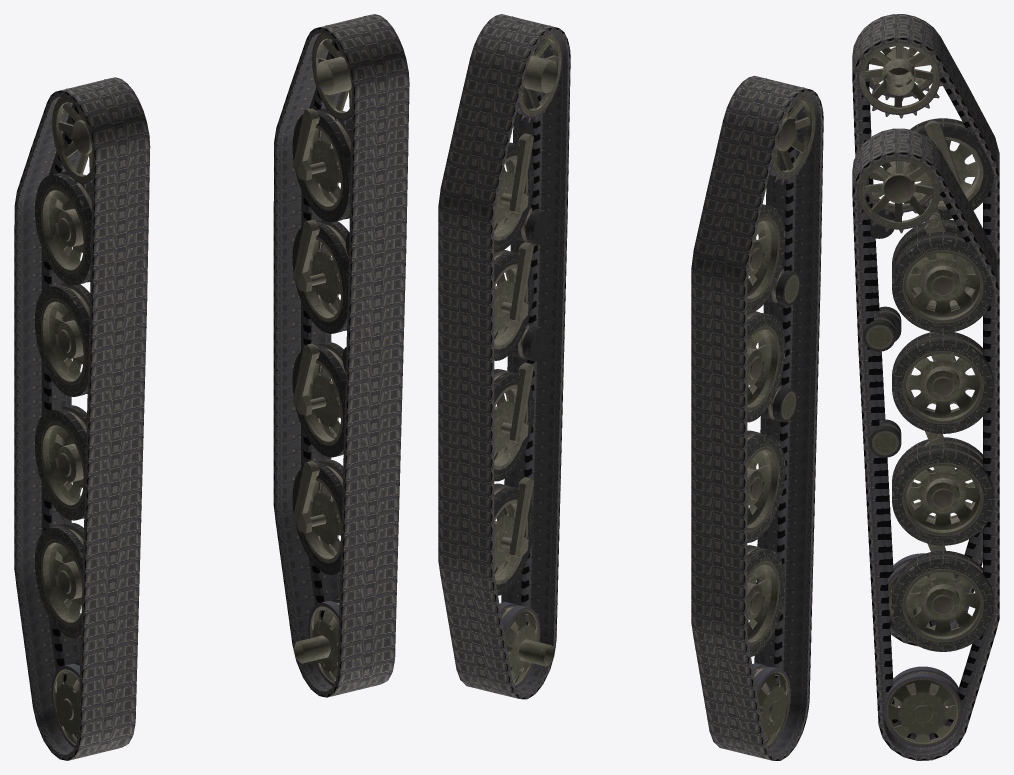
File: Chassis.glb
The picture shows the model from 3 angles, left to right: view 1: azimuth 30°, elevation 25°; view 2: azimuth 150°, elevation 25°; view 3: azimuth 270°, elevation 25°; orthographic projection. The views are drawn at different scales.
Parts seen in each view (by area): view 1: set_1_group_0, set_0_group_0, set_3_group_0, set_2_group_0; view 2: set_1_group_0, set_0_group_0, set_3_group_0, set_2_group_0; view 3: set_3_group_0, set_0_group_0, set_2_group_0, set_1_group_0.
Boxes of the visible parts, x1,y1,x2,y2 form: set_1_group_0: [14, 77, 150, 760]; set_0_group_0: [273, 14, 409, 697]; set_3_group_0: [292, 16, 400, 685]; set_2_group_0: [35, 79, 140, 747]; set_1_group_0: [691, 75, 823, 760]; set_0_group_0: [438, 14, 570, 699]; set_3_group_0: [482, 16, 562, 688]; set_2_group_0: [735, 78, 815, 748]; set_3_group_0: [855, 132, 994, 747]; set_0_group_0: [852, 128, 999, 760]; set_2_group_0: [855, 17, 993, 629]; set_1_group_0: [852, 14, 999, 646].
Size of the model in its own units: 2.72 by 5.57 by 1.22.
4 materials, 4 textured.
